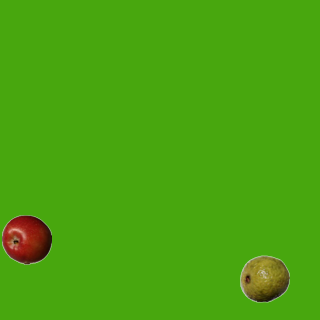Apple Braeburn: (1, 214, 51, 264)
Guava: (239, 253, 289, 303)
